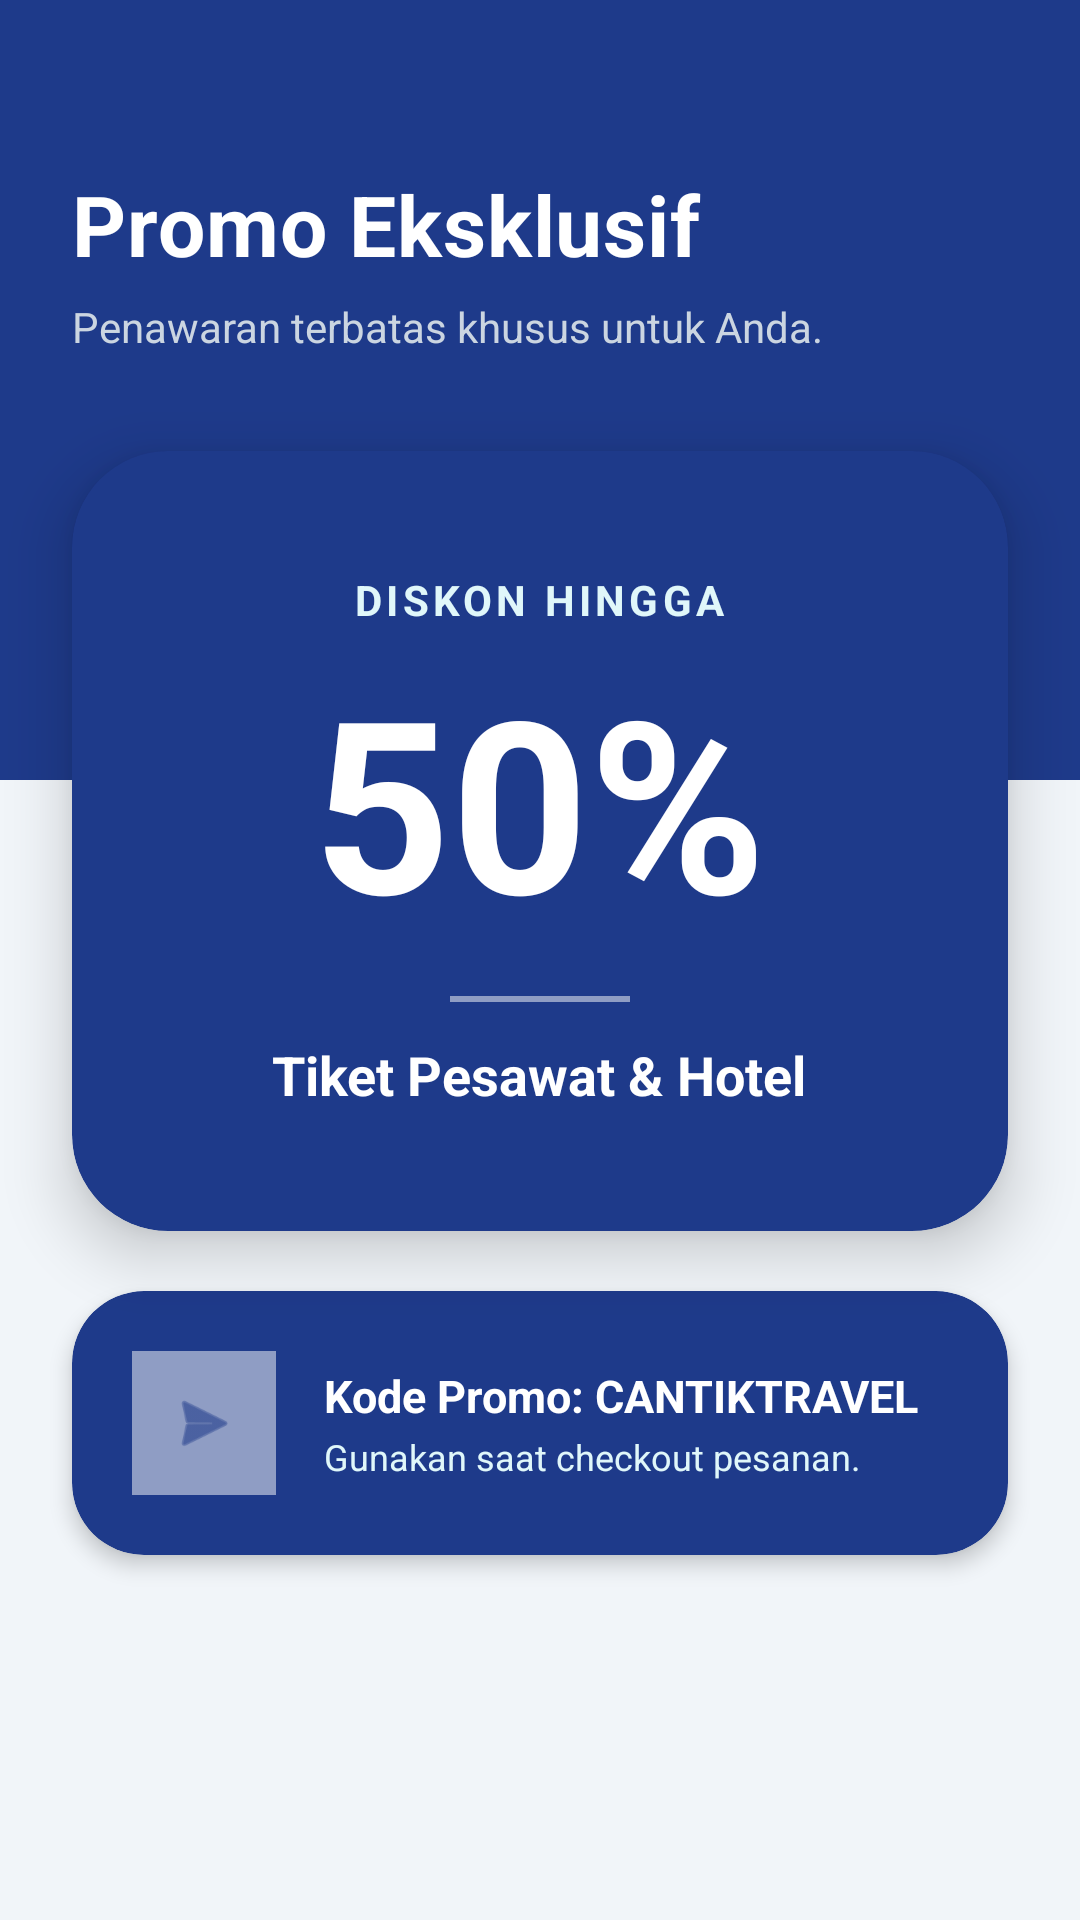

Point at icon controls on the screen. Image size 1080 x 1920, points as point (x, y).
send: point (204, 1423)
